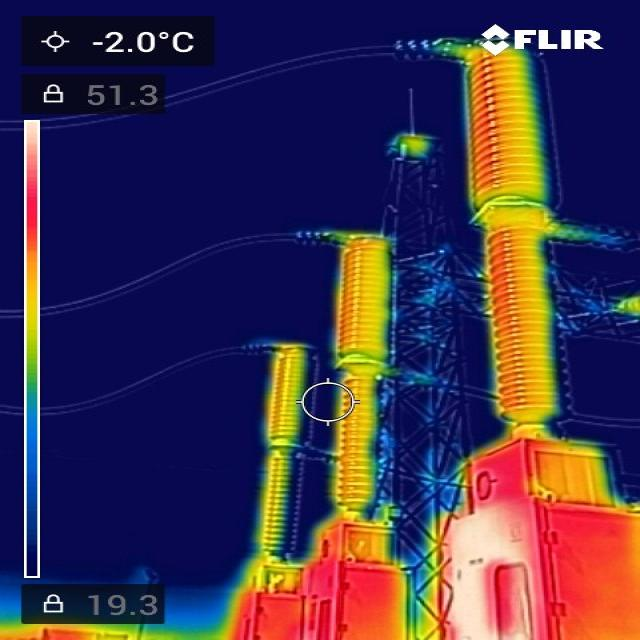Zona_Atenco: (489, 231, 533, 410), (470, 57, 500, 193), (340, 249, 361, 353)
Zona_Critica: (481, 441, 604, 609), (242, 526, 392, 638)
Zona_Extrema: (449, 505, 540, 638)
